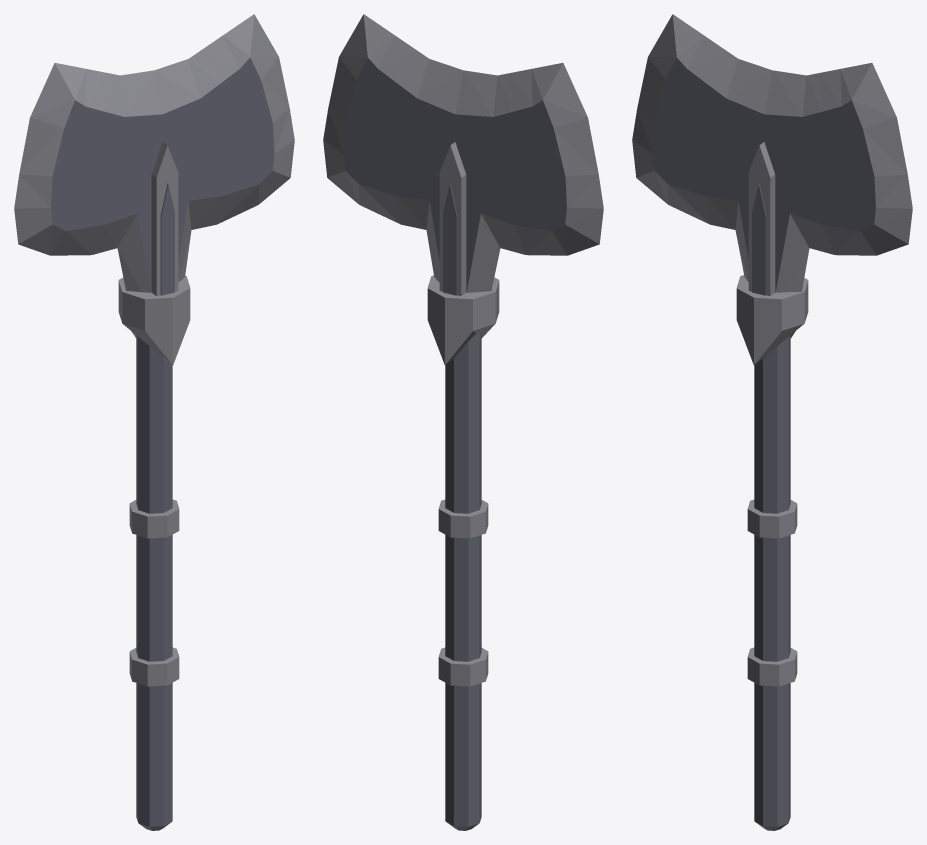
Rendered from hammer_hammer_7.glb.
3 views of the same model, side by side, from view 1: azimuth 30°, elevation 25°; view 2: azimuth 150°, elevation 25°; view 3: azimuth 330°, elevation 25° (orthographic).
Parts seen in each view (by area): view 1: hammer_7; view 2: hammer_7; view 3: hammer_7.
Part boxes in pixels (bbox=[...]): hammer_7: bbox=[14, 14, 294, 830]; hammer_7: bbox=[323, 14, 603, 830]; hammer_7: bbox=[632, 14, 912, 830].
Size of the model in its own units: 29.98 by 80.51 by 6.89.
1 material, 1 textured.
